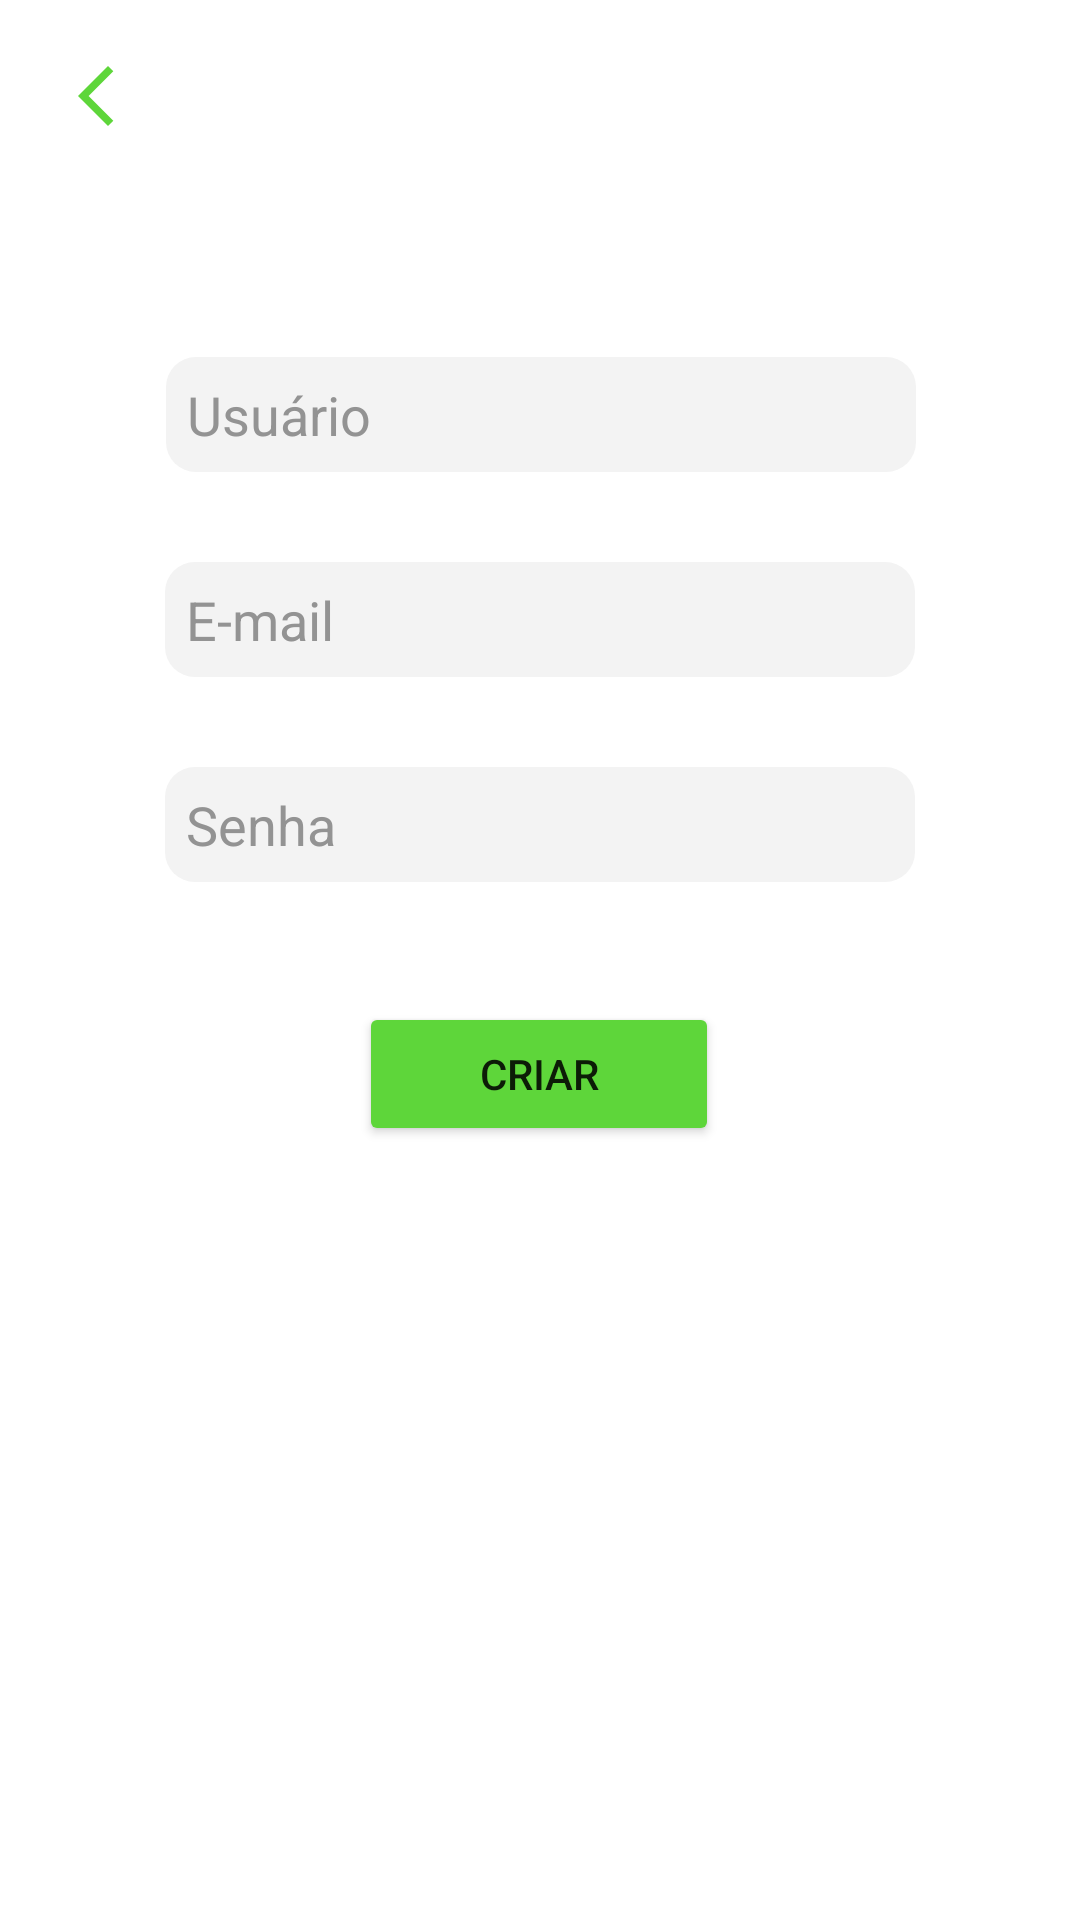

Screen size 1080x1920. Icon name, then its box in pixels as rect(x1, y1, x2, y2):
arrow back: rect(78, 66, 113, 126)
